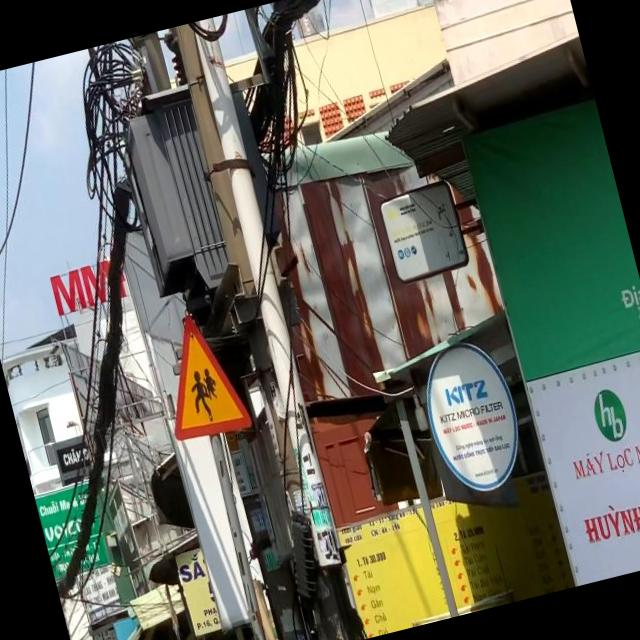W-225: (147, 304, 253, 446)
